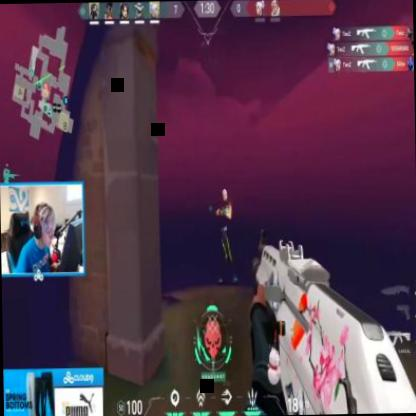enemy: (215, 182, 236, 287)
enemy_head: (222, 188, 228, 202)
